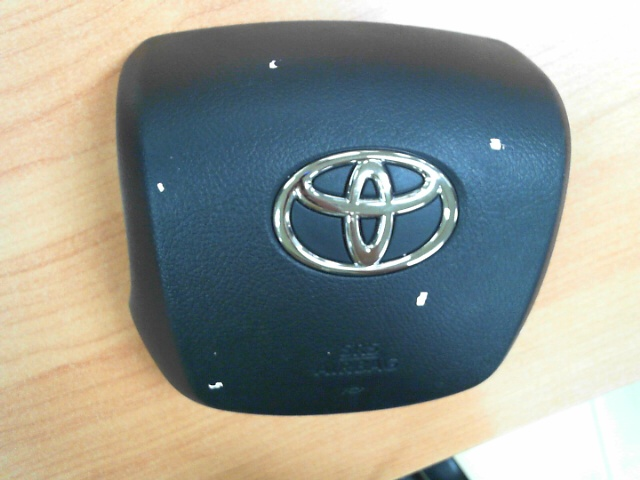Airbag: (488, 137, 505, 152), (415, 291, 428, 307), (207, 381, 224, 391), (268, 58, 279, 69), (156, 182, 166, 193)
